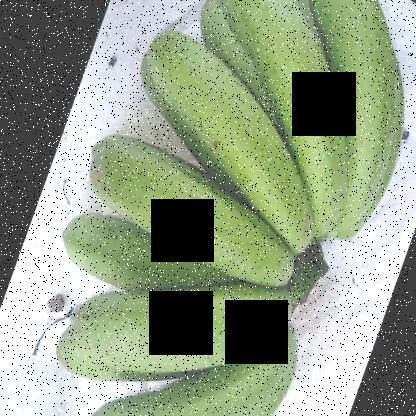unripe: (62, 116, 301, 283), (132, 26, 300, 235), (47, 271, 293, 375), (240, 0, 353, 212), (58, 337, 320, 415)
